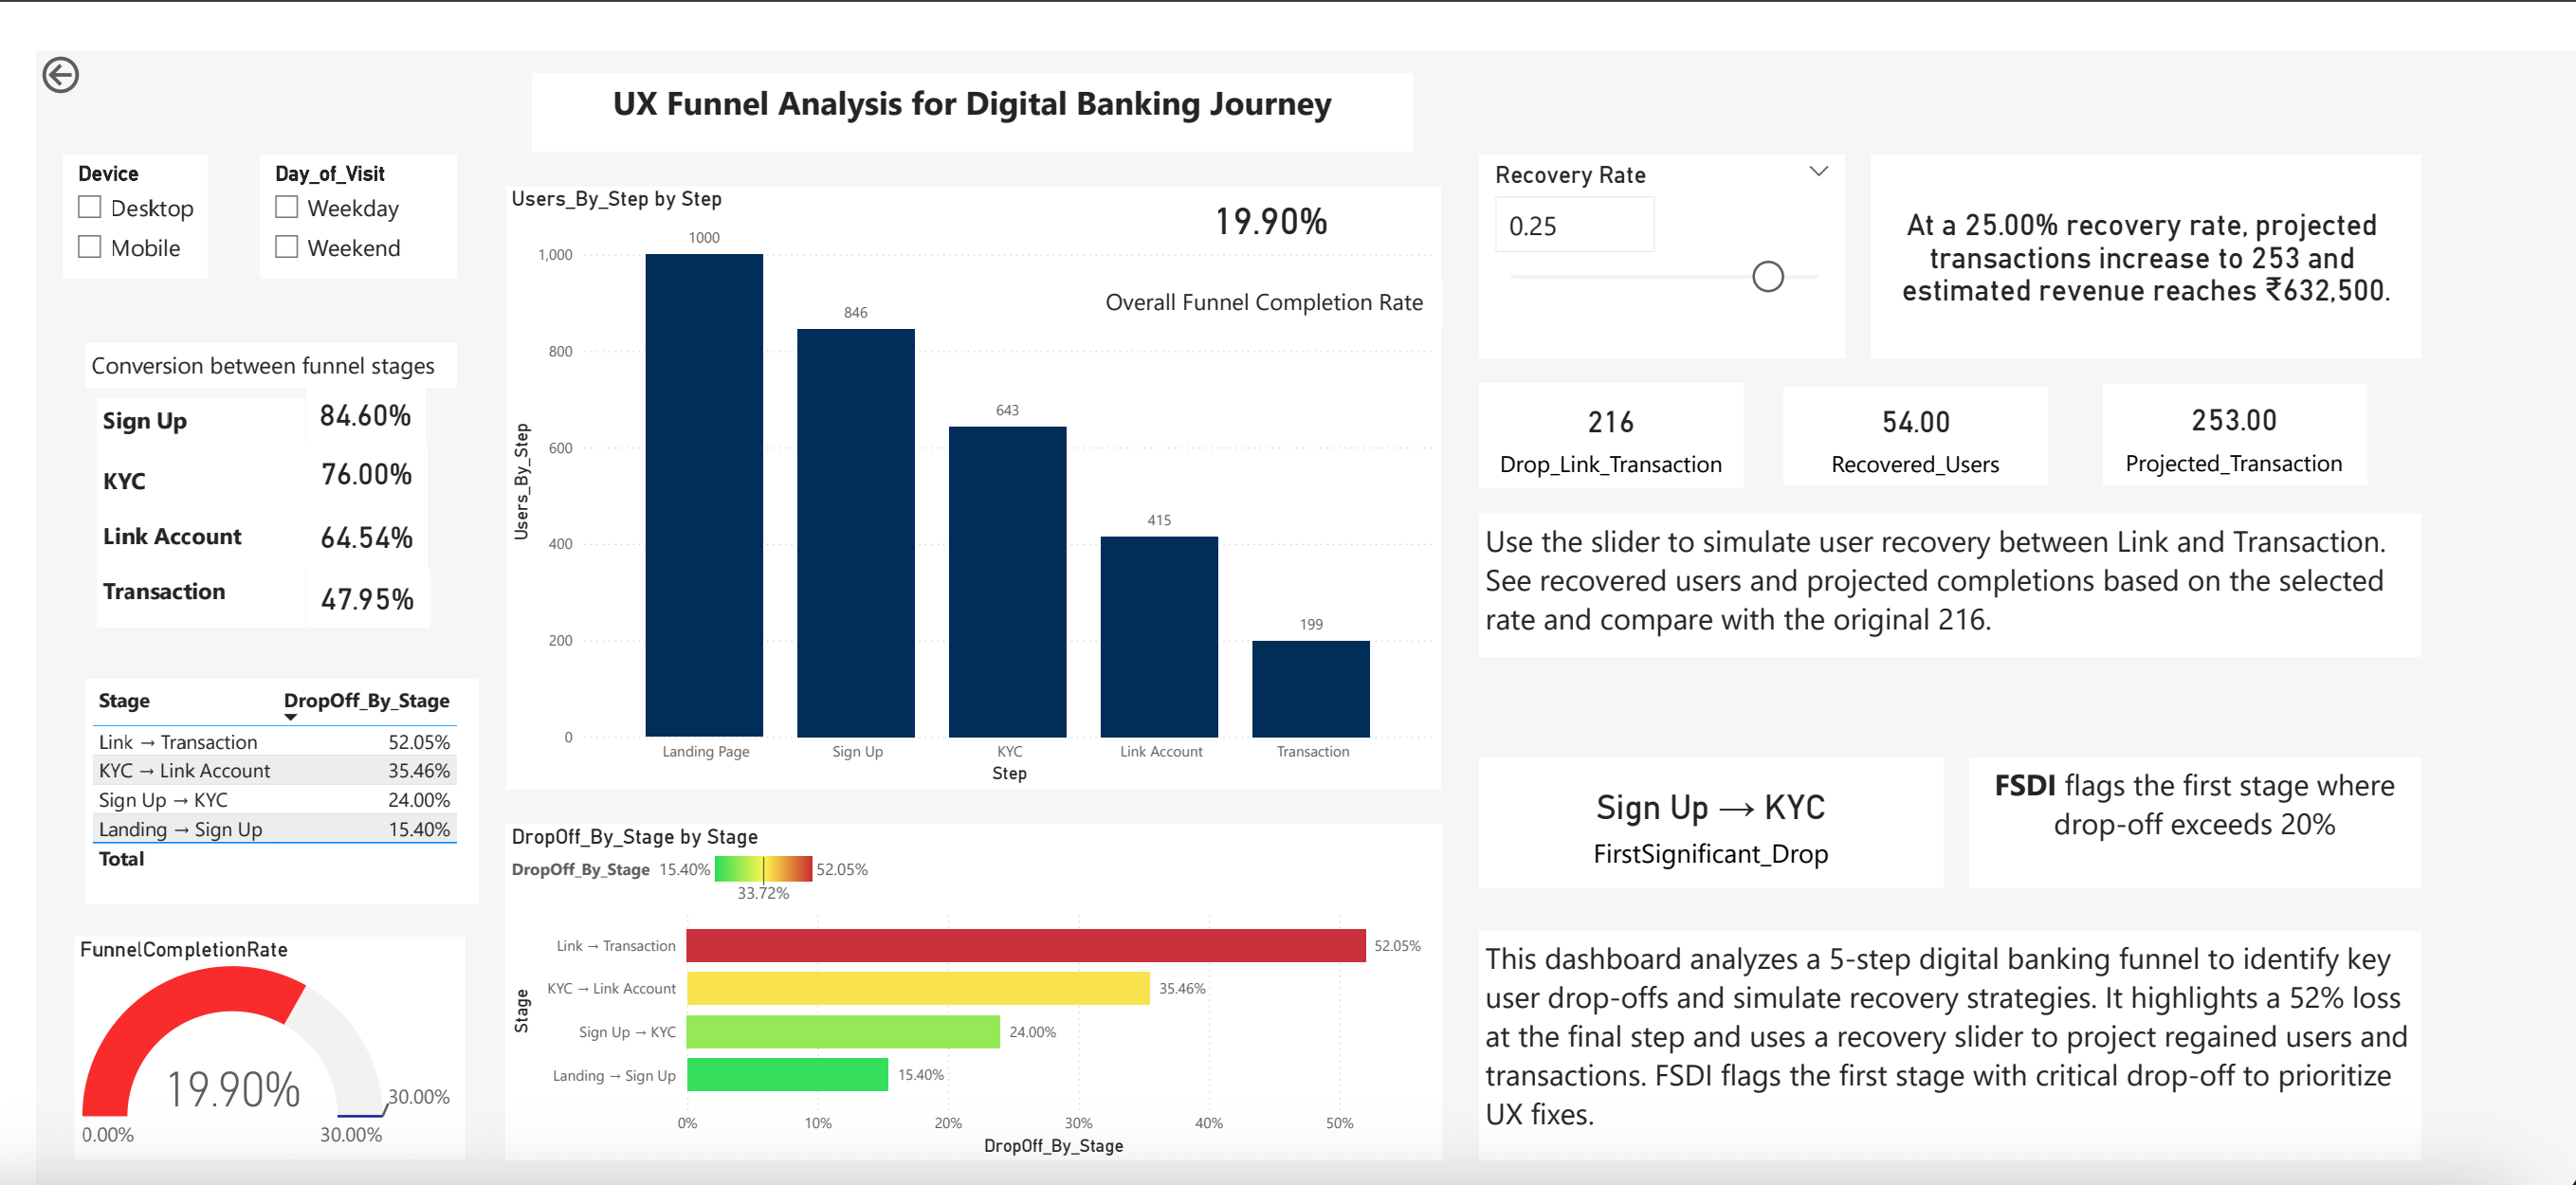

The page's visual inventory and layout, read from the dashboard file:
{"tool":"powerbi","page":{"name":"Page 1","canvas":[2000,1077],"ordinal":0},"visuals":[{"type":"actionButton","box":[0,0,100,40],"z":0},{"type":"clusteredColumnChart","fields":{"Category":["FunnelSteps.Step"],"Y":["Sheet1.Users_By_Step"]},"box":[386.4,111.7,768.5,495.2],"z":1000},{"type":"slicer","fields":{"Values":["Sheet1.Device"]},"box":[21.4,85.7,119,102.4],"z":2000},{"type":"slicer","fields":{"Values":["Sheet1.Day_of_Visit"]},"box":[183.3,85.7,161.9,102.4],"z":3000},{"type":"card","fields":{"Values":["FunnelSteps.Pct_SignUp"]},"box":[221.2,274.2,98.5,50],"z":4000},{"type":"card","fields":{"Values":["FunnelSteps.Pct_SignUp"]},"box":[221.2,324.2,100,47],"z":5000},{"type":"card","fields":{"Values":["FunnelSteps.LinkedAccount"]},"box":[221.2,371.2,100,56.1],"z":6000},{"type":"card","fields":{"Values":["FunnelSteps.Transaction"]},"box":[221.2,427.3,101.5,48.5],"z":7000},{"type":"textbox","box":[1185.7,381,773.8,116.7],"z":8000},{"type":"textbox","box":[407.1,19,723.8,64.3],"z":9000},{"type":"card","fields":{"Values":["FunnelSteps.Total_Conversion"]},"box":[926.2,111.9,176.2,52.4],"z":10000},{"type":"textbox","box":[873.8,188.1,281,38.1],"z":11000},{"type":"textbox","box":[50,286.4,171.2,50],"z":12000},{"type":"textbox","box":[40.5,240.5,304.8,35.7],"z":13000},{"type":"textbox","box":[50,336.4,171.2,45.5],"z":14000},{"type":"textbox","box":[50,381.8,171.2,45.5],"z":15000},{"type":"textbox","box":[50,427.3,171.2,48.5],"z":16000},{"type":"tableEx","fields":{"Values":["DropOffSteps.Stage","DropOffSteps.DropOff_By_Stage"]},"box":[40.2,516.1,323.3,184.7],"z":17000},{"type":"clusteredBarChart","fields":{"Y":["DropOffSteps.DropOff_By_Stage"],"Category":["DropOffSteps.Stage"]},"box":[385.5,636.5,769.1,277.1],"z":18000},{"type":"slicer","fields":{"Values":["Recovery Rate.Recovery Rate"]},"box":[1185.7,85.7,300,166.7],"z":19000},{"type":"card","fields":{"Values":["DropOffSteps.Drop_Link_Transaction"]},"box":[1185.7,273.8,216.7,85.7],"z":20000},{"type":"card","fields":{"Values":["DropOffSteps.Recovered_Users"]},"box":[1435.7,276.2,216.7,81],"z":21000},{"type":"card","fields":{"Values":["DropOffSteps.Projected_Transaction"]},"box":[1697.6,273.8,216.7,83.3],"z":22000},{"type":"card","fields":{"Values":["DropOffSteps.Recovery_Narrative"]},"box":[1507.1,85.7,452.4,166.7],"z":23000},{"type":"card","fields":{"Values":["DropOffSteps.FirstSignificant_Drop"]},"box":[1185.7,581,381,107.1],"z":24000},{"type":"textbox","box":[1588.1,581,371.4,107.1],"z":25000},{"type":"textbox","box":[1185.7,723.8,773.8,188.1],"z":25001},{"type":"gauge","fields":{"Y":["DropOffSteps.FunnelCompletionRate"]},"box":[31,728.6,321.4,183.3],"z":25002}]}

Visuals, with their boxes on the page's 2000x1077 design canvas (x1, y1, x2, y2). These are canvas units, not pixel positions in the 2576x1185 screenshot, which may show the page scaled, cropped or inside an application window:
actionButton: <box>0,0,100,40</box>
clusteredColumnChart - FunnelSteps.Step x Sheet1.Users_By_Step: <box>386,112,1155,607</box>
slicer - Sheet1.Device: <box>21,86,140,188</box>
slicer - Sheet1.Day_of_Visit: <box>183,86,345,188</box>
card - FunnelSteps.Pct_SignUp: <box>221,274,320,324</box>
card - FunnelSteps.Pct_SignUp: <box>221,324,321,371</box>
card - FunnelSteps.LinkedAccount: <box>221,371,321,427</box>
card - FunnelSteps.Transaction: <box>221,427,323,476</box>
textbox: <box>1186,381,1960,498</box>
textbox: <box>407,19,1131,83</box>
card - FunnelSteps.Total_Conversion: <box>926,112,1102,164</box>
textbox: <box>874,188,1155,226</box>
textbox: <box>50,286,221,336</box>
textbox: <box>40,240,345,276</box>
textbox: <box>50,336,221,382</box>
textbox: <box>50,382,221,427</box>
textbox: <box>50,427,221,476</box>
tableEx - DropOffSteps.Stage x DropOffSteps.DropOff_By_Stage: <box>40,516,364,701</box>
clusteredBarChart - DropOffSteps.DropOff_By_Stage x DropOffSteps.Stage: <box>386,636,1155,914</box>
slicer - Recovery Rate.Recovery Rate: <box>1186,86,1486,252</box>
card - DropOffSteps.Drop_Link_Transaction: <box>1186,274,1402,360</box>
card - DropOffSteps.Recovered_Users: <box>1436,276,1652,357</box>
card - DropOffSteps.Projected_Transaction: <box>1698,274,1914,357</box>
card - DropOffSteps.Recovery_Narrative: <box>1507,86,1960,252</box>
card - DropOffSteps.FirstSignificant_Drop: <box>1186,581,1567,688</box>
textbox: <box>1588,581,1960,688</box>
textbox: <box>1186,724,1960,912</box>
gauge - DropOffSteps.FunnelCompletionRate: <box>31,729,352,912</box>
